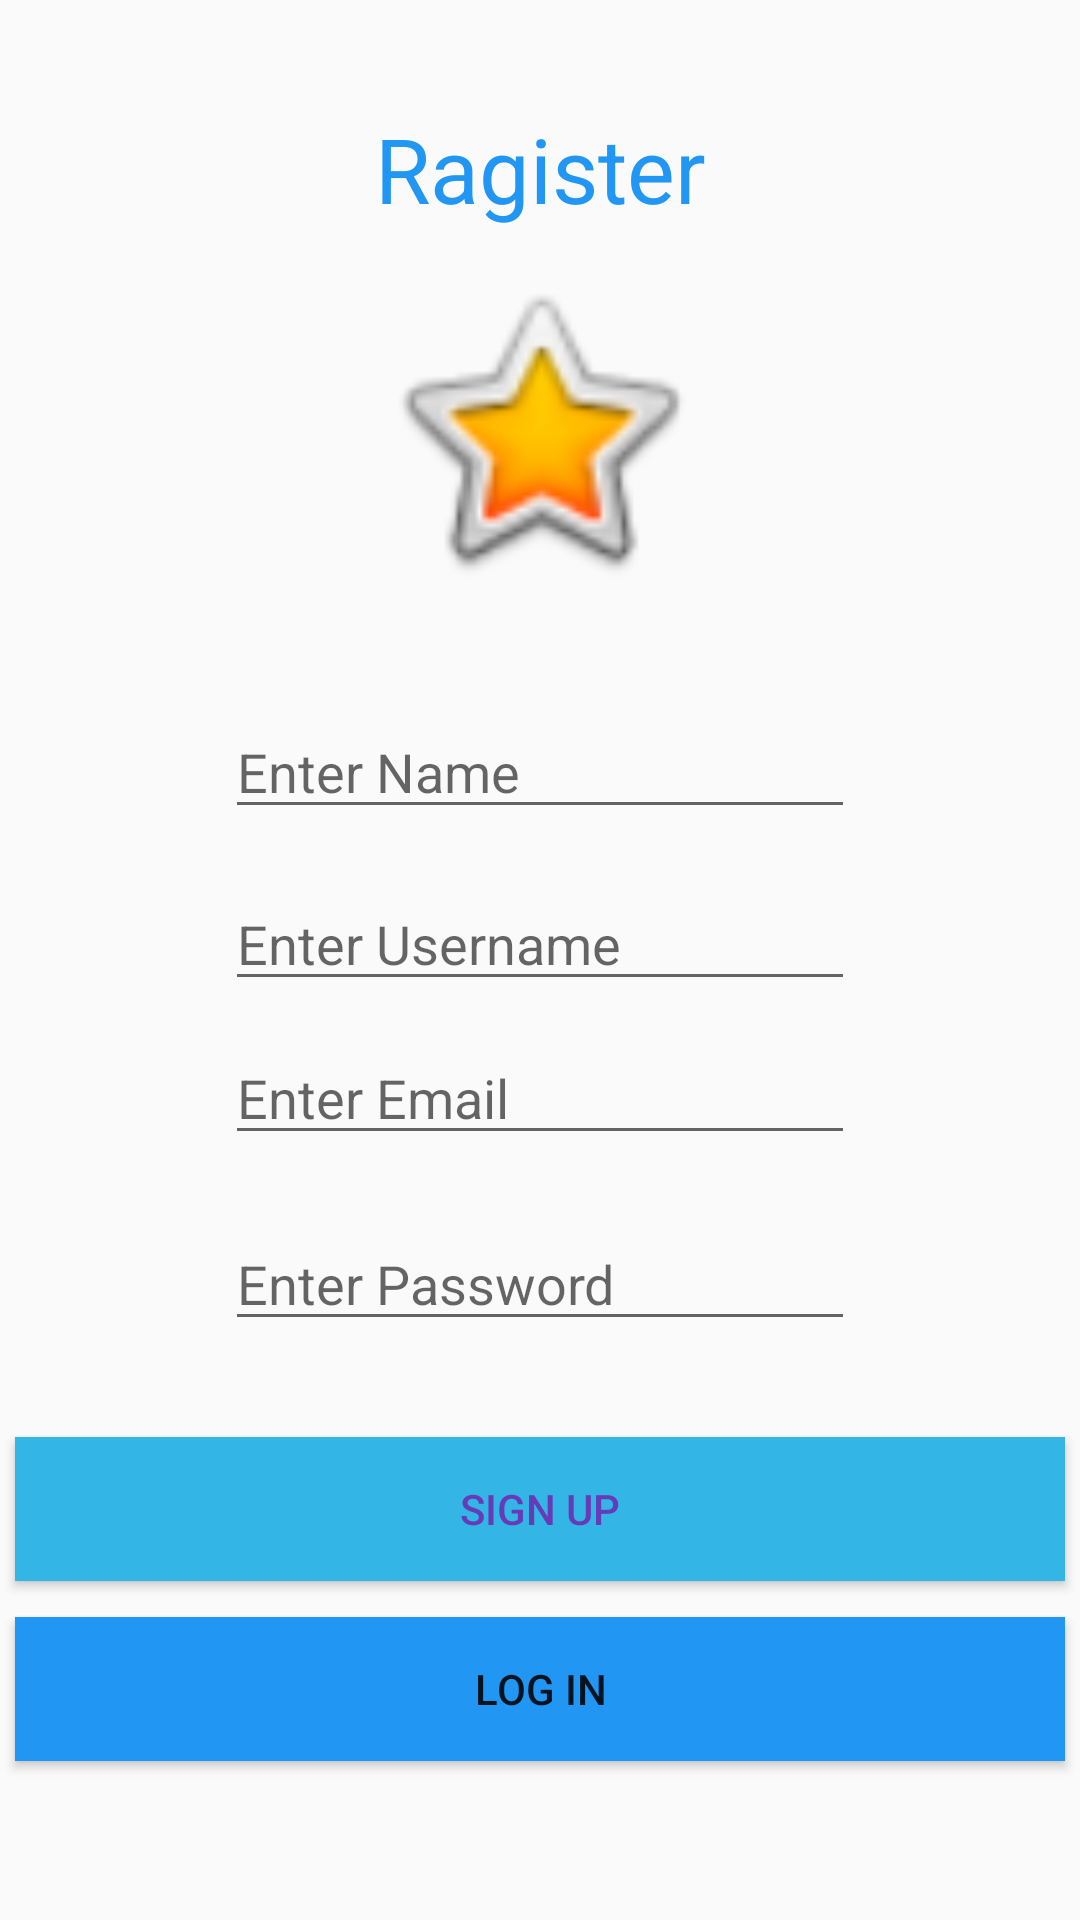

Locate icon controls on the screen. Image size 1080px x 1920px, boxes as (x1, y1, x2, y2).
star on: (404, 298, 680, 567)
